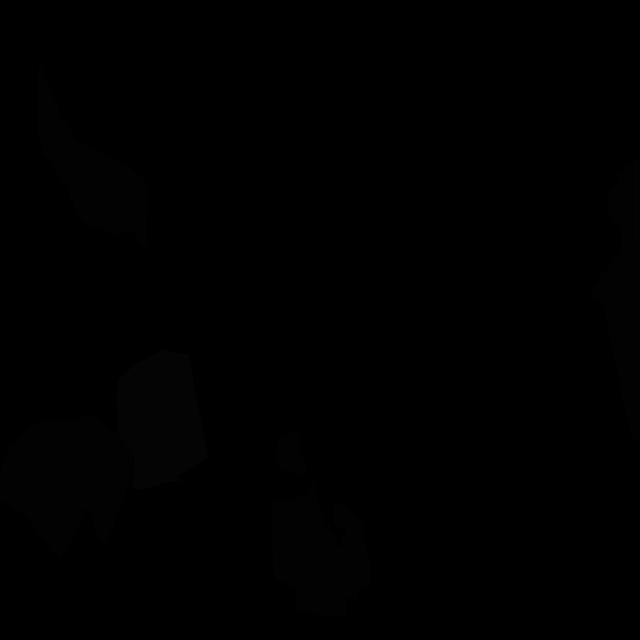cardboard: (37, 61, 150, 251), (0, 416, 132, 559), (271, 476, 371, 617), (592, 156, 640, 441), (275, 431, 308, 476)
soft_plastic: (116, 349, 208, 490)
